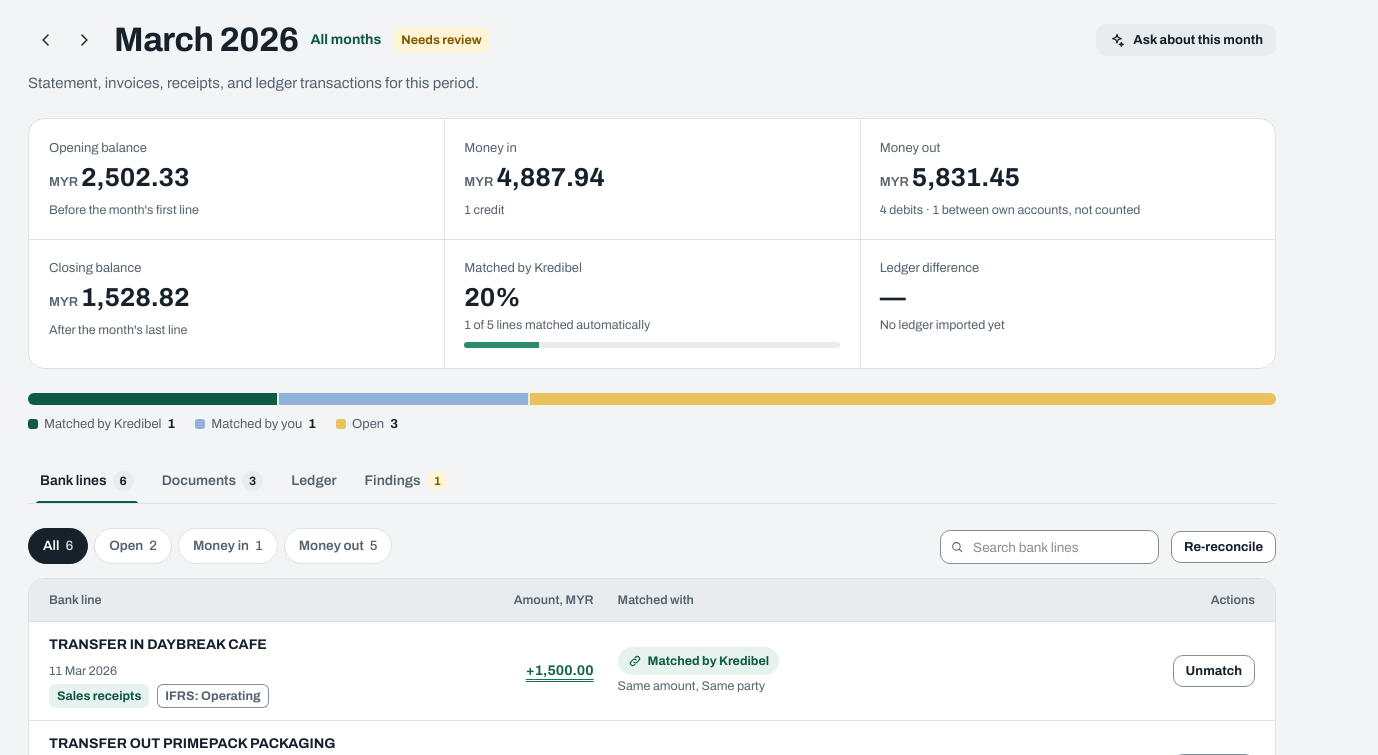
Test: MonthPage › has the mock's tabs with counts, kept in the address (AC-007-12)
Check: the tab "Documents 3" is shown, box [150,459,275,503]
Check: the tab "Bank lines 6" is shown, box [28,459,146,503]
Step 1. Click the tab "Findings 1" → (406, 481), box [353,459,460,503]
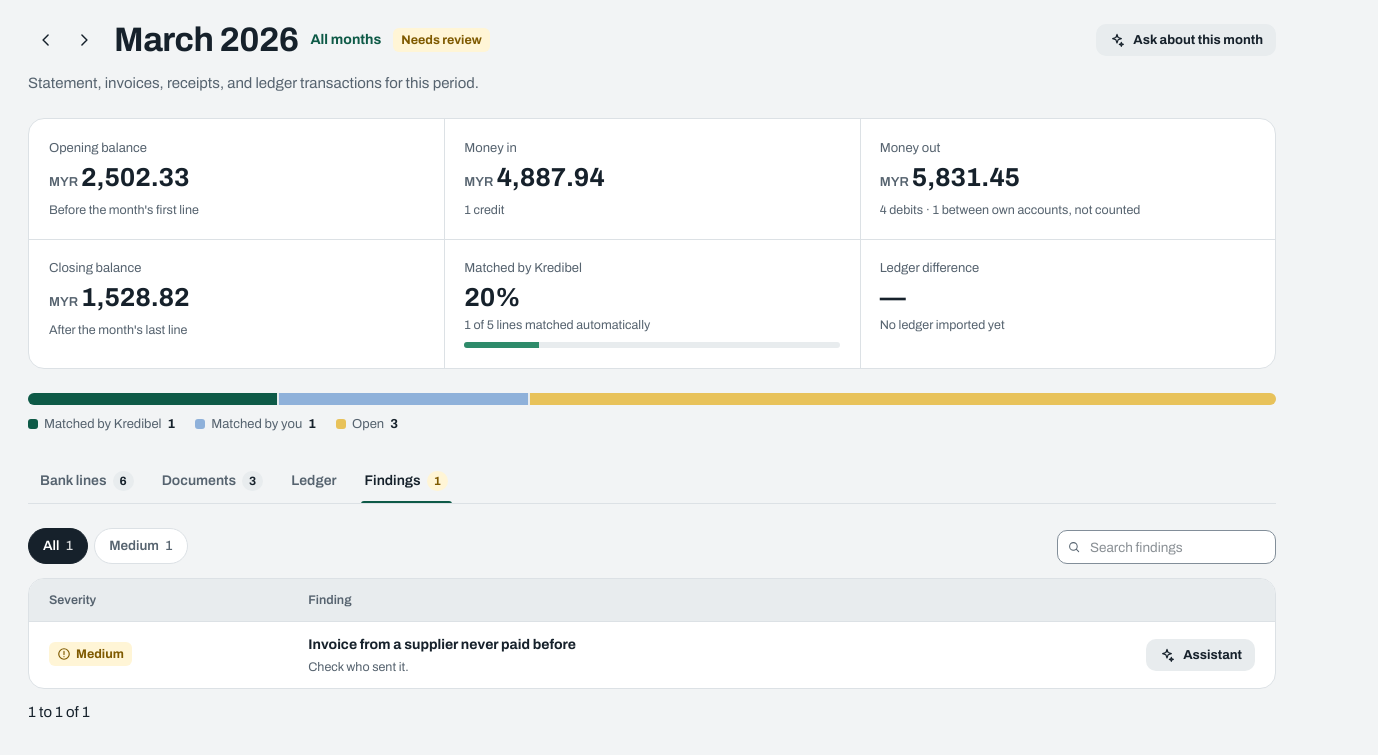
Check: the text "Invoice from a supplier never paid before" is shown, box [308,637,576,652]
Check: the button "Medium 1" is shown, box [94,528,188,564]
Step 2. Click the tab "Ledger" → (314, 481), box [279,459,349,503]
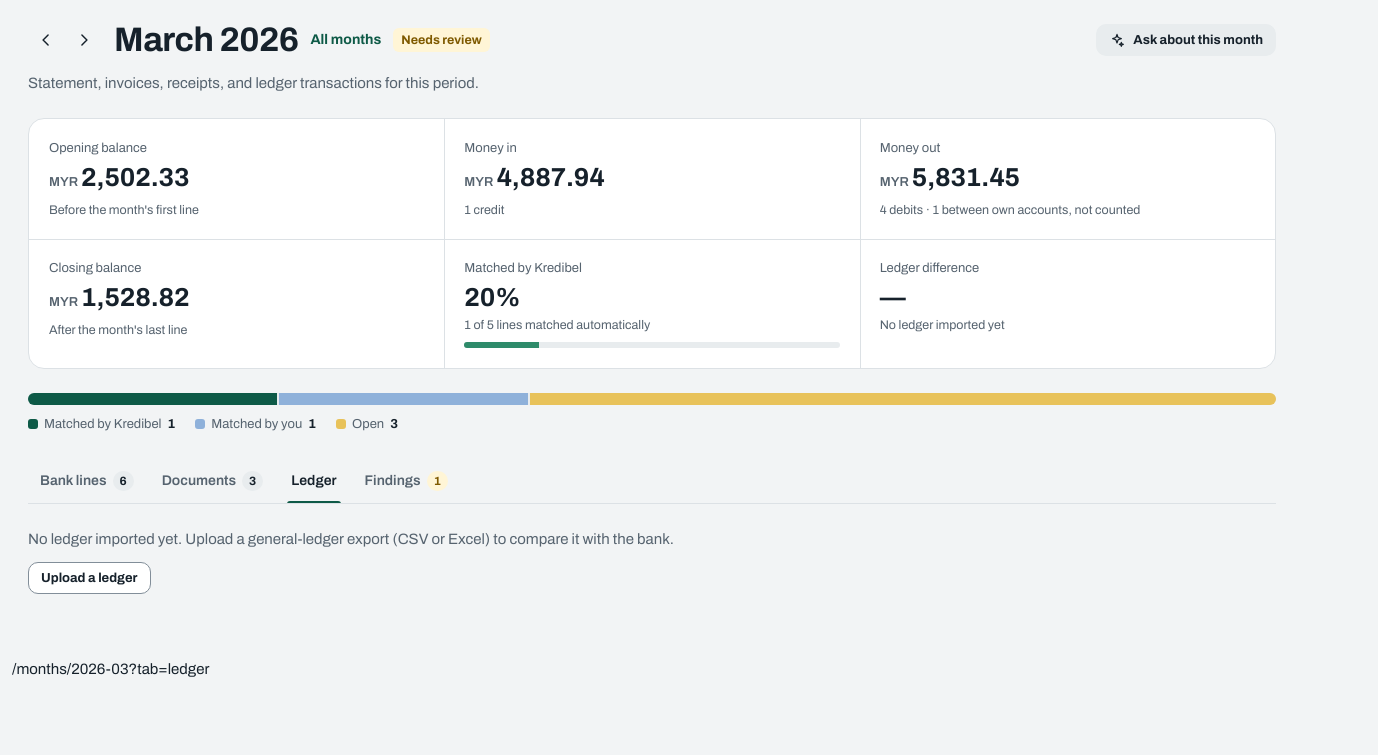
Check: the text "Upload a general-ledger export" is shown, box [28,531,674,547]
